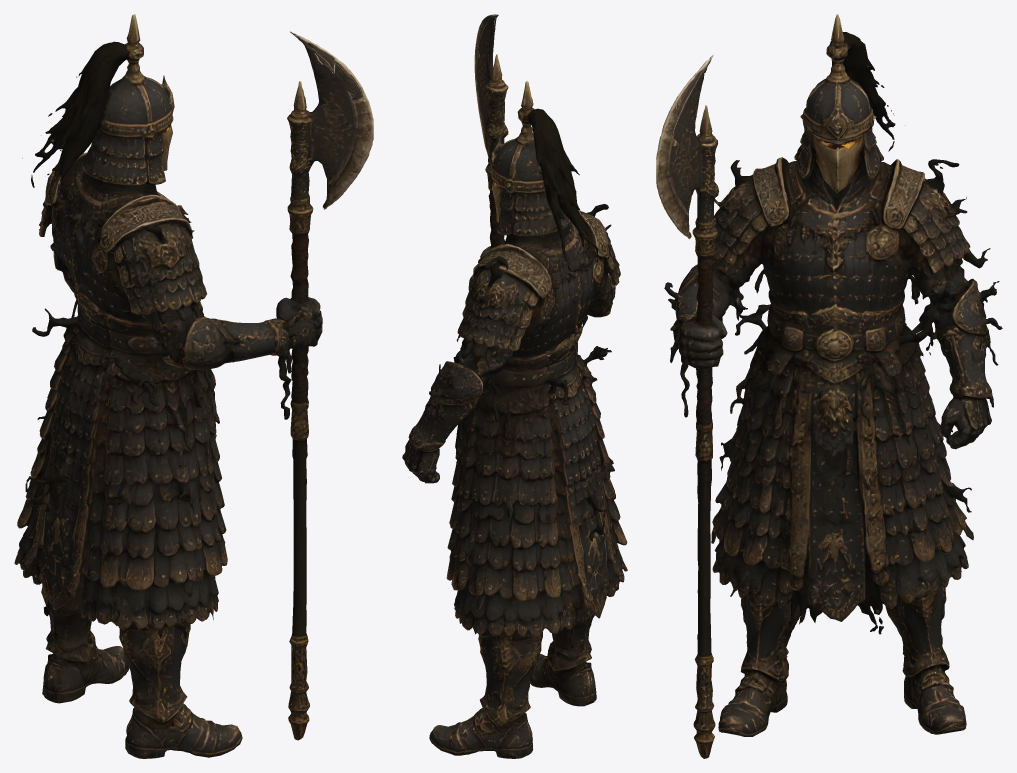
The model's file is ThroneGuard-repaired.glb.
3 renders of one model, left to right at view 1: azimuth 30°, elevation 25°; view 2: azimuth 150°, elevation 25°; view 3: azimuth 270°, elevation 25°, orthographic. The views are drawn at different scales.
Parts seen in each view (by area): view 1: ThroneGuard_Repaired; view 2: ThroneGuard_Repaired; view 3: ThroneGuard_Repaired.
Part boxes in pixels (x1,y1,x2,y2): ThroneGuard_Repaired: (14,14,373,758); ThroneGuard_Repaired: (402,14,627,758); ThroneGuard_Repaired: (656,14,1002,758).
Bounding box in the file's own units: 0.3604 × 0.9979 × 0.4427.
Materials: 1 (1 with a texture image).
